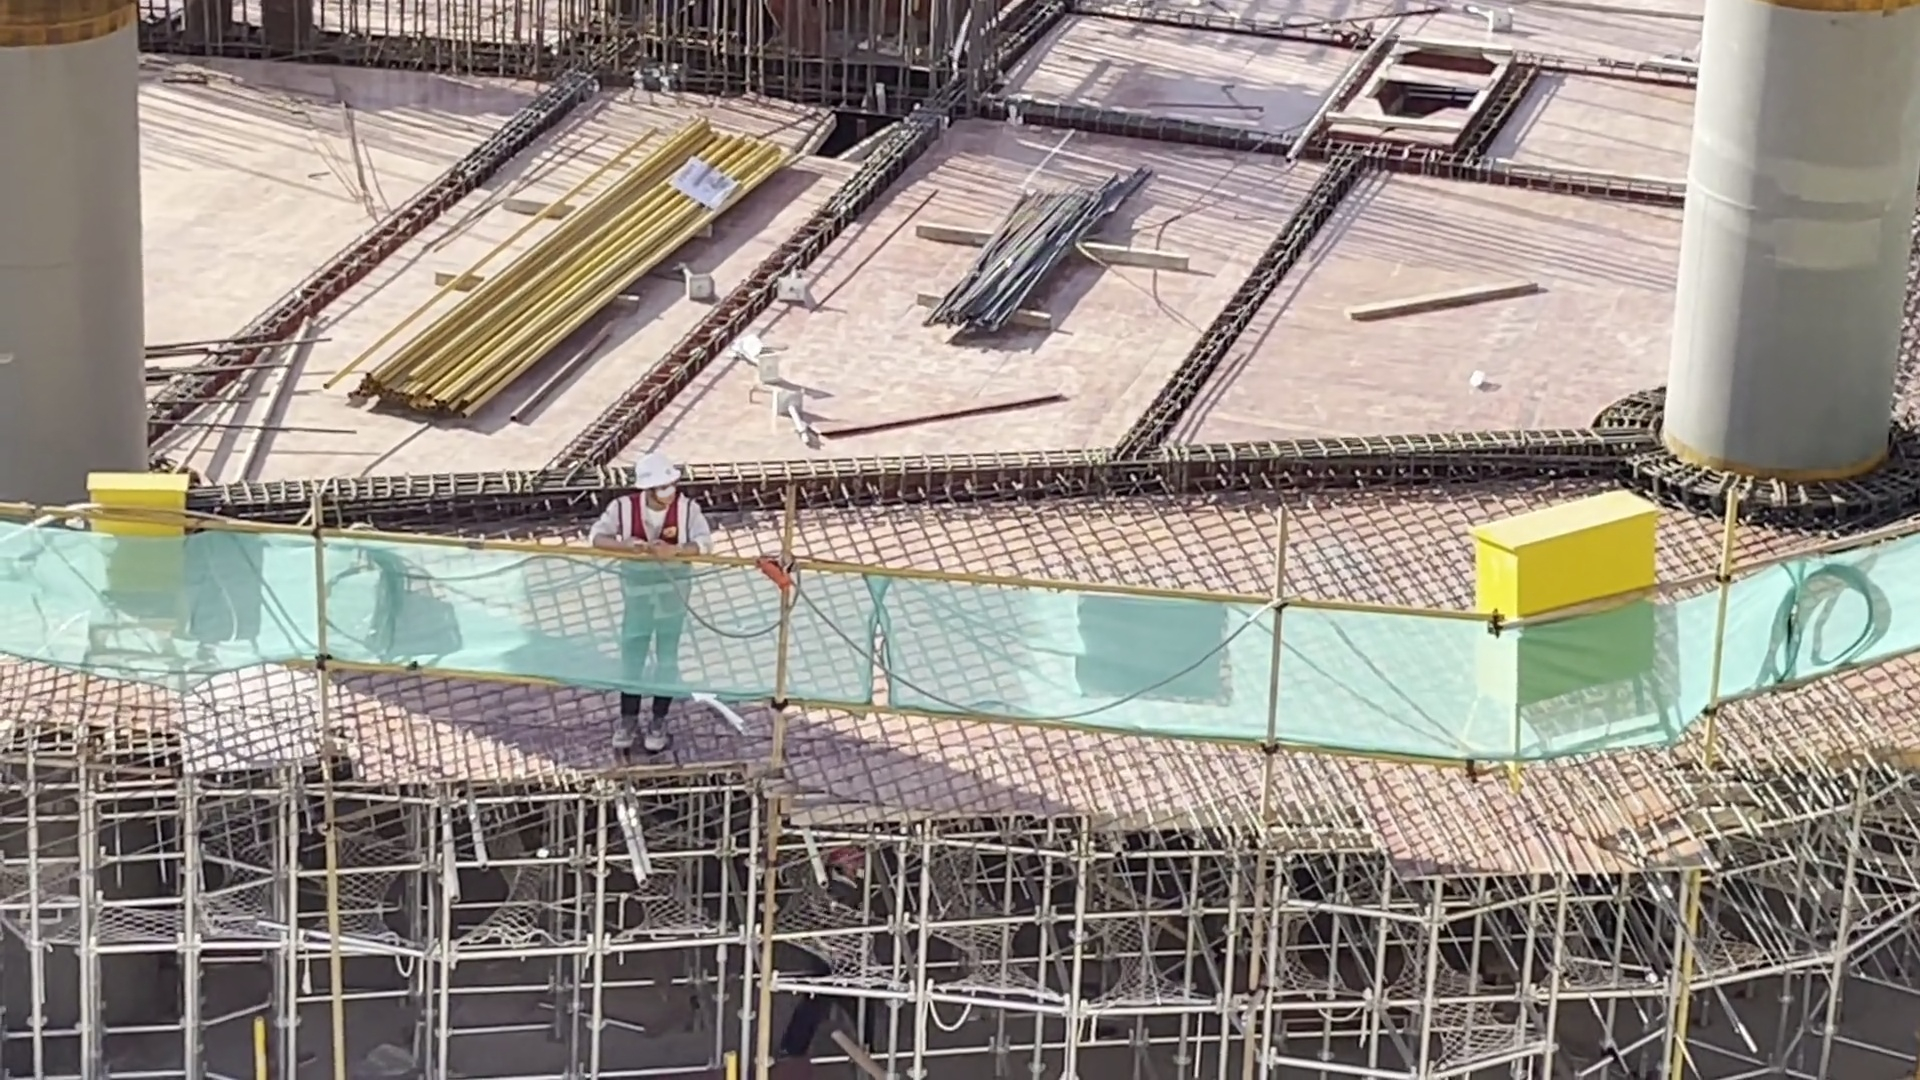ebox: (1493, 499, 1663, 726), (103, 462, 193, 614)
helmet: (646, 452, 683, 506), (826, 827, 871, 869)
person: (616, 445, 724, 755), (779, 840, 868, 1080)
rebar: (961, 170, 1119, 326)
vest: (636, 526, 691, 652), (828, 886, 866, 994)
